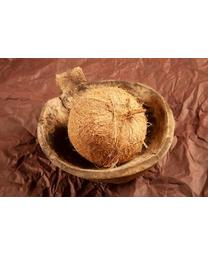coconut: (36, 79, 172, 173)
